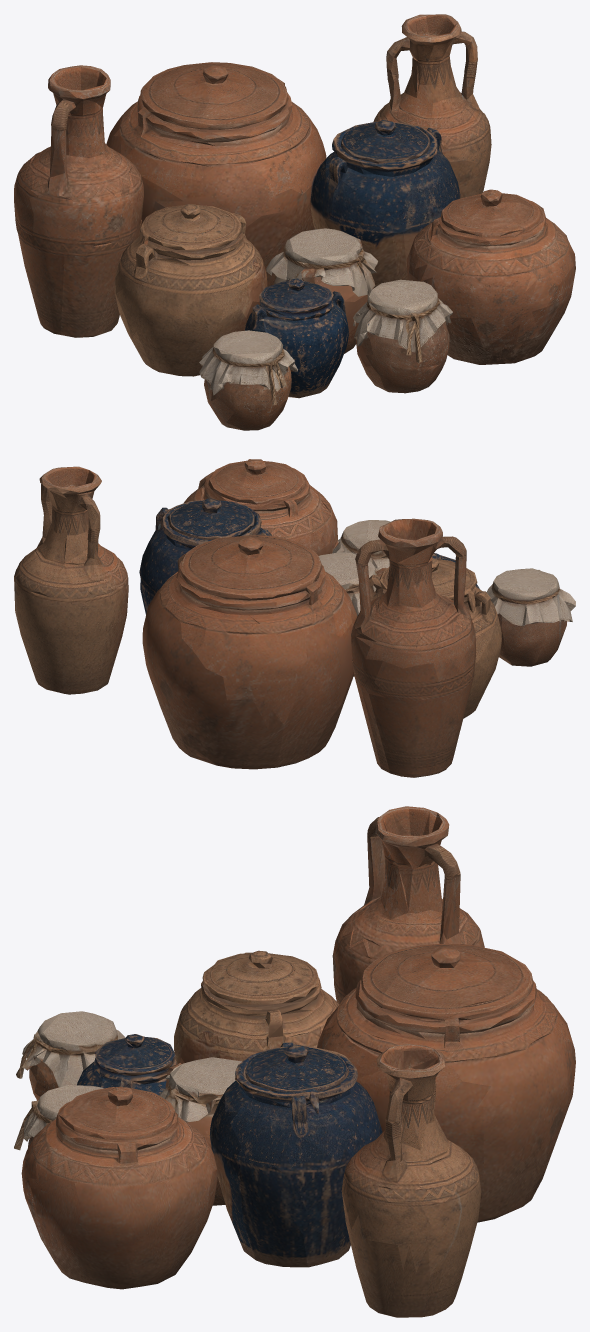
The model's file is jar_cluster.glb.
3 views of the same model, one above another, from view 1: azimuth 30°, elevation 25°; view 2: azimuth 150°, elevation 25°; view 3: azimuth 270°, elevation 25° (orthographic). The views are drawn at different scales.
Parts seen in each view (by area): view 1: Mesh_0; view 2: Mesh_0; view 3: Mesh_0.
Part boxes in pixels (bbox=[...]): Mesh_0: bbox=[14, 14, 575, 430]; Mesh_0: bbox=[14, 459, 575, 777]; Mesh_0: bbox=[14, 806, 575, 1317].
Bounding box in the file's own units: 1.4 × 0.7043 × 1.28.
Materials: 1 (1 with a texture image).
